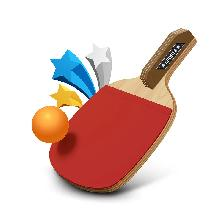YellowBall: (31, 106, 68, 143)
